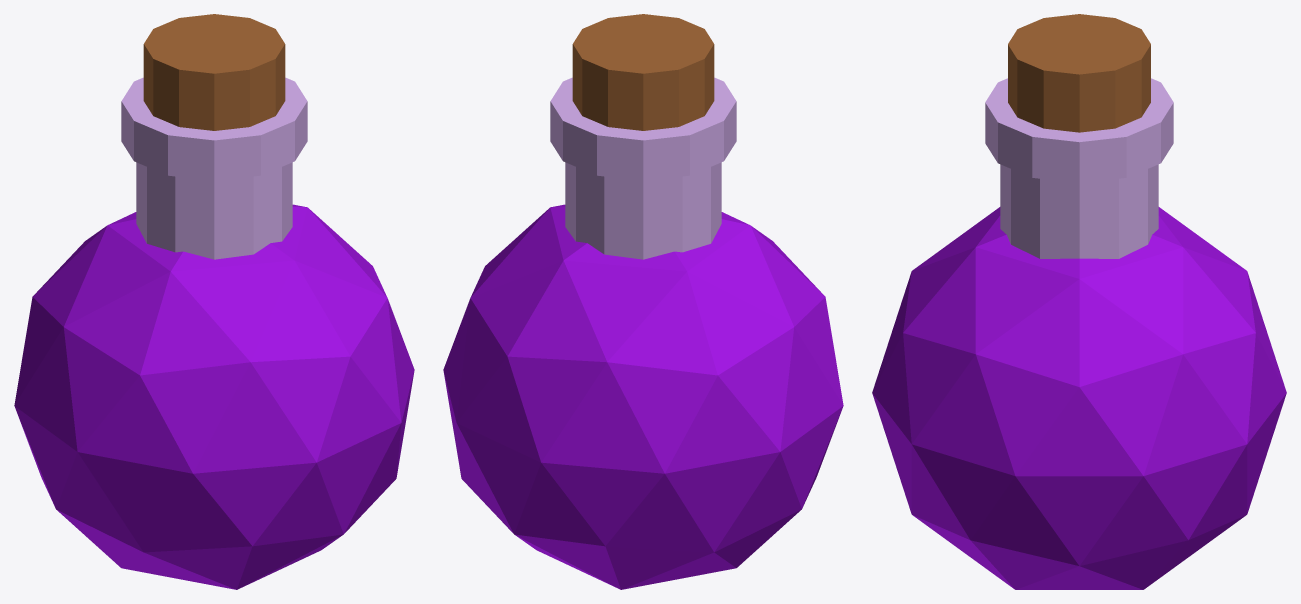
Rendered from Potion.fbx.
3 renders of one model, left to right at view 1: azimuth 30°, elevation 25°; view 2: azimuth 150°, elevation 25°; view 3: azimuth 270°, elevation 25°, orthographic.
Parts seen in each view (by area): view 1: Potion_Prop; view 2: Potion_Prop; view 3: Potion_Prop.
Boxes of the visible parts, box(x1,y1,x2,y2) form: Potion_Prop: box(14, 14, 414, 589); Potion_Prop: box(443, 14, 843, 589); Potion_Prop: box(872, 14, 1286, 589).
Bounding box in the file's own units: 10.46 × 15.7 × 11.
